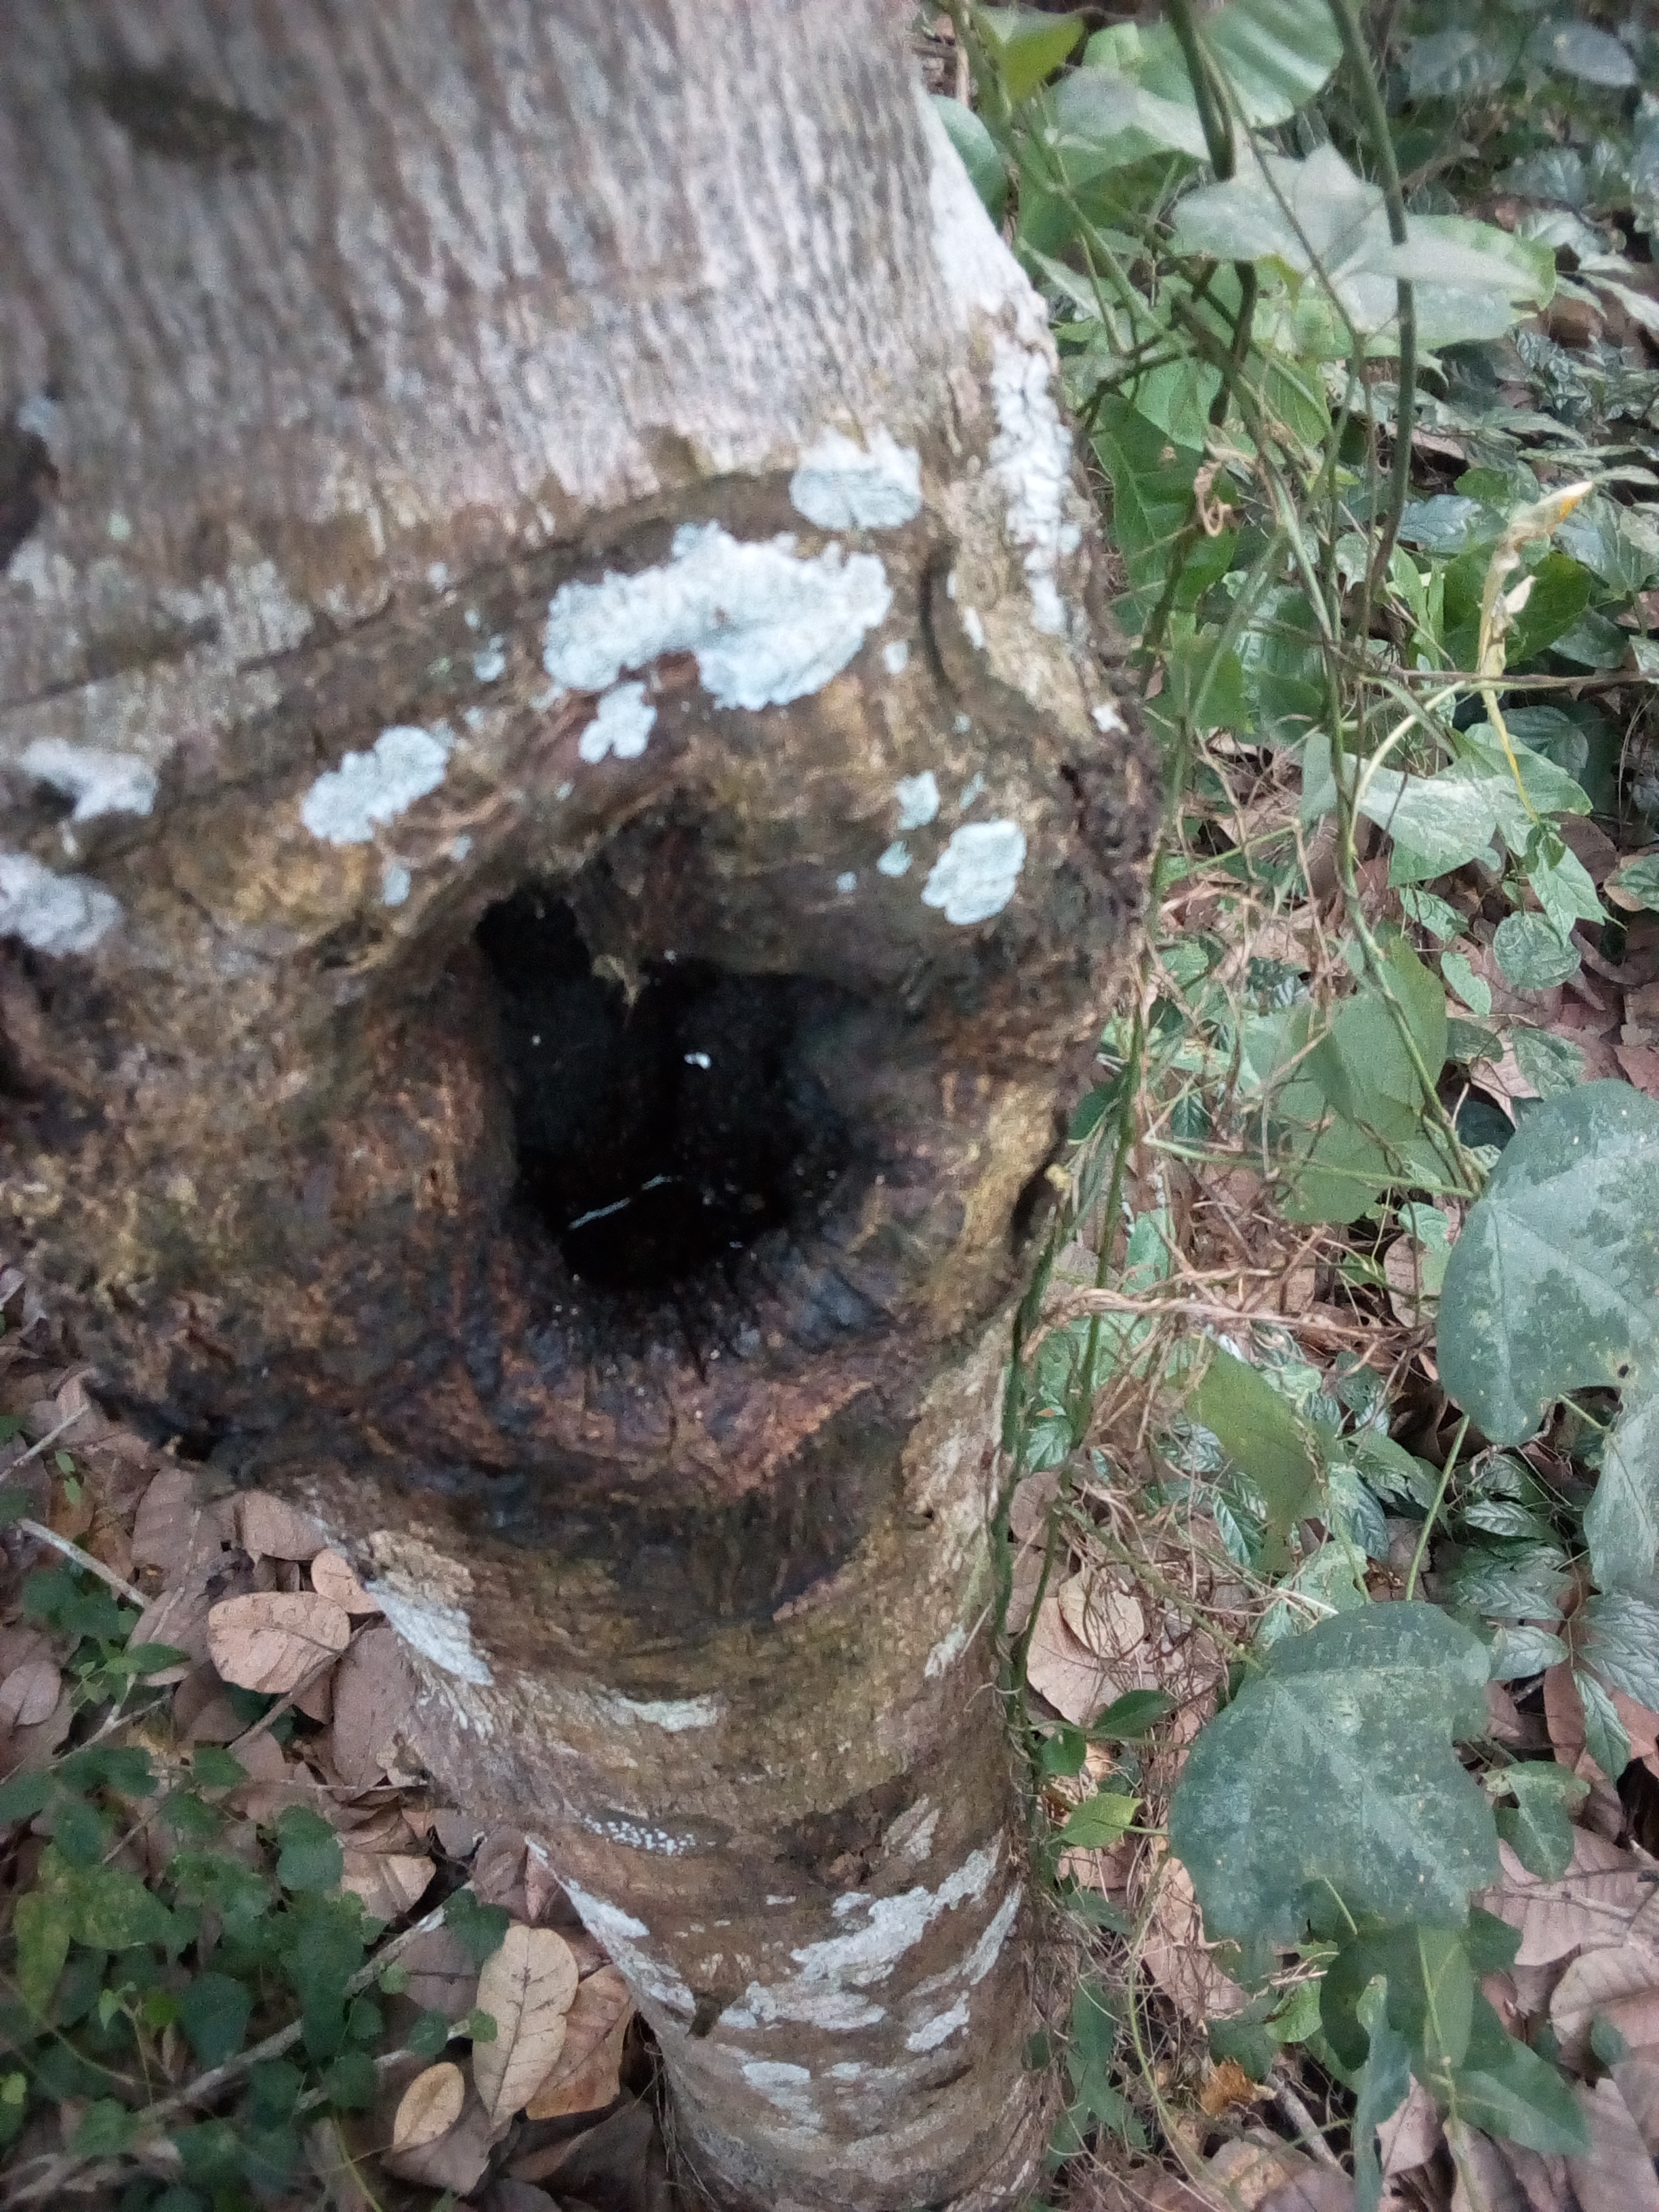ploceadorus ferrugineus: (396, 751, 931, 1468)
